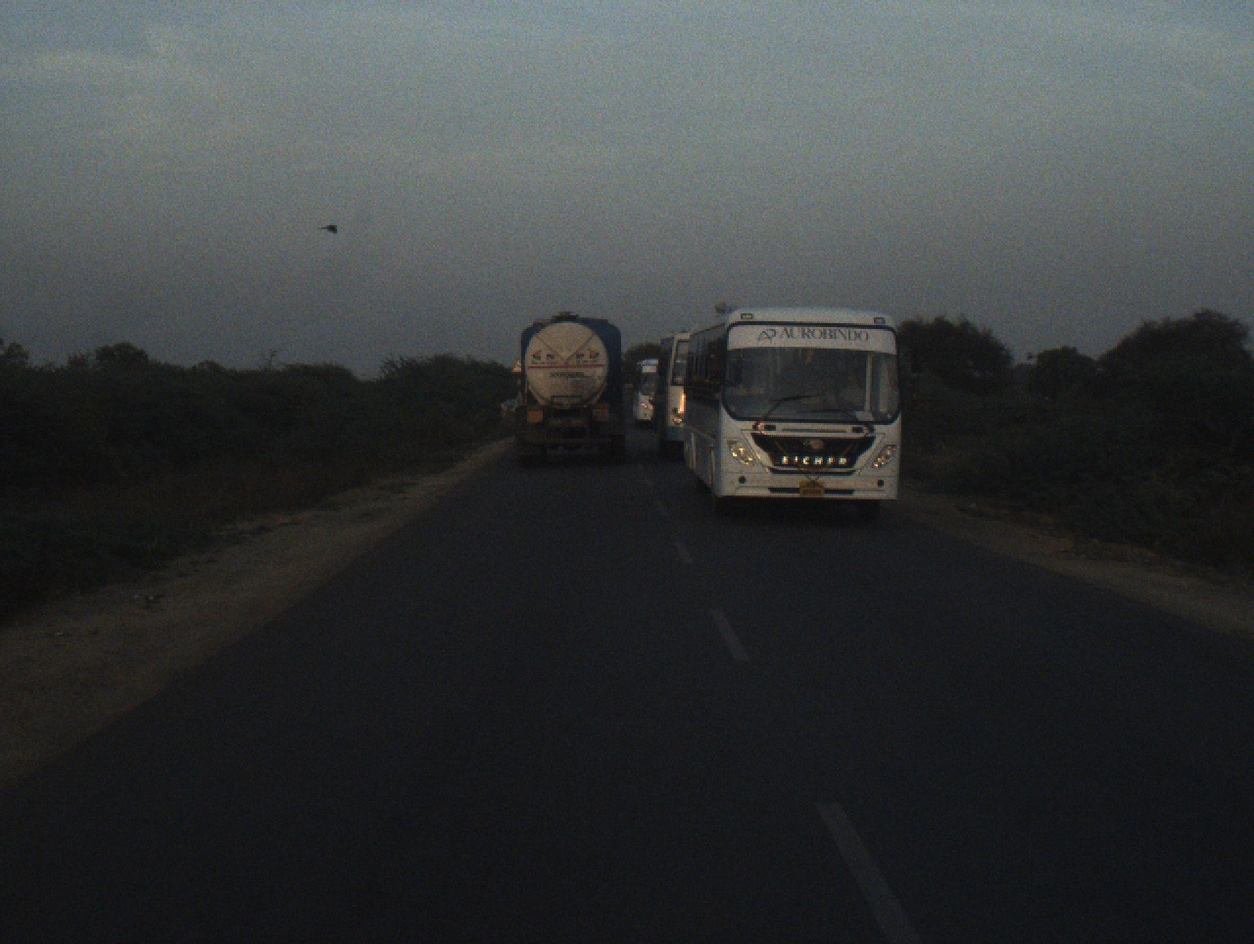bus: (680, 304, 912, 508), (651, 329, 693, 459), (633, 354, 660, 424)
truck: (499, 313, 631, 465)
